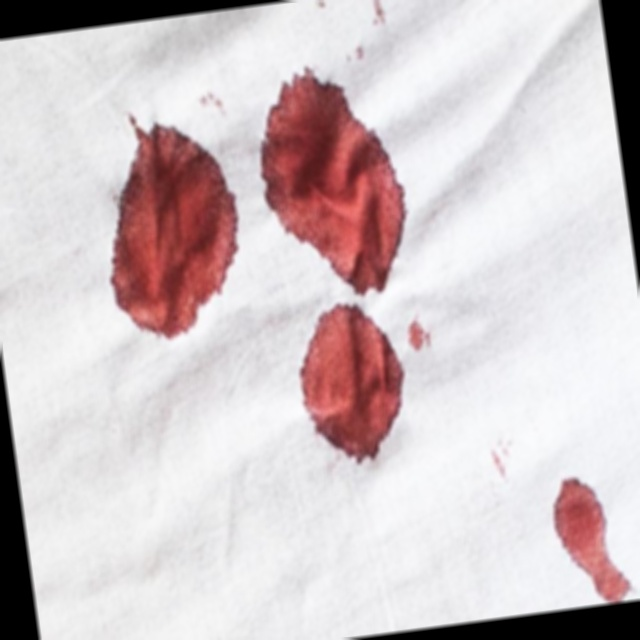blood: (257, 66, 417, 305), (95, 107, 246, 342), (294, 302, 411, 465), (544, 470, 638, 610)
